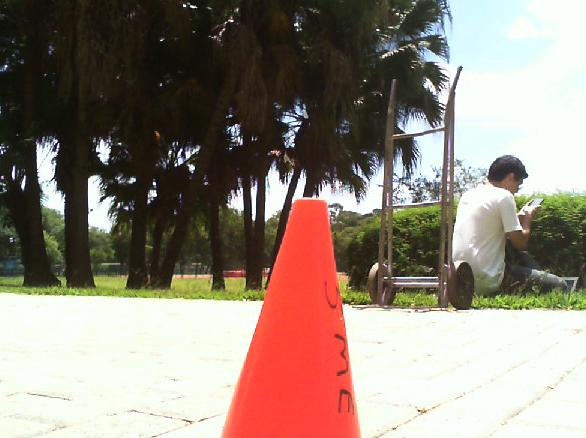0 cone: (220, 198, 361, 438)
